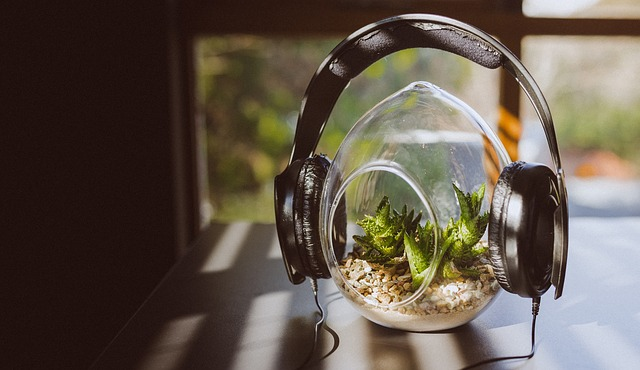headphones: (274, 15, 571, 301)
